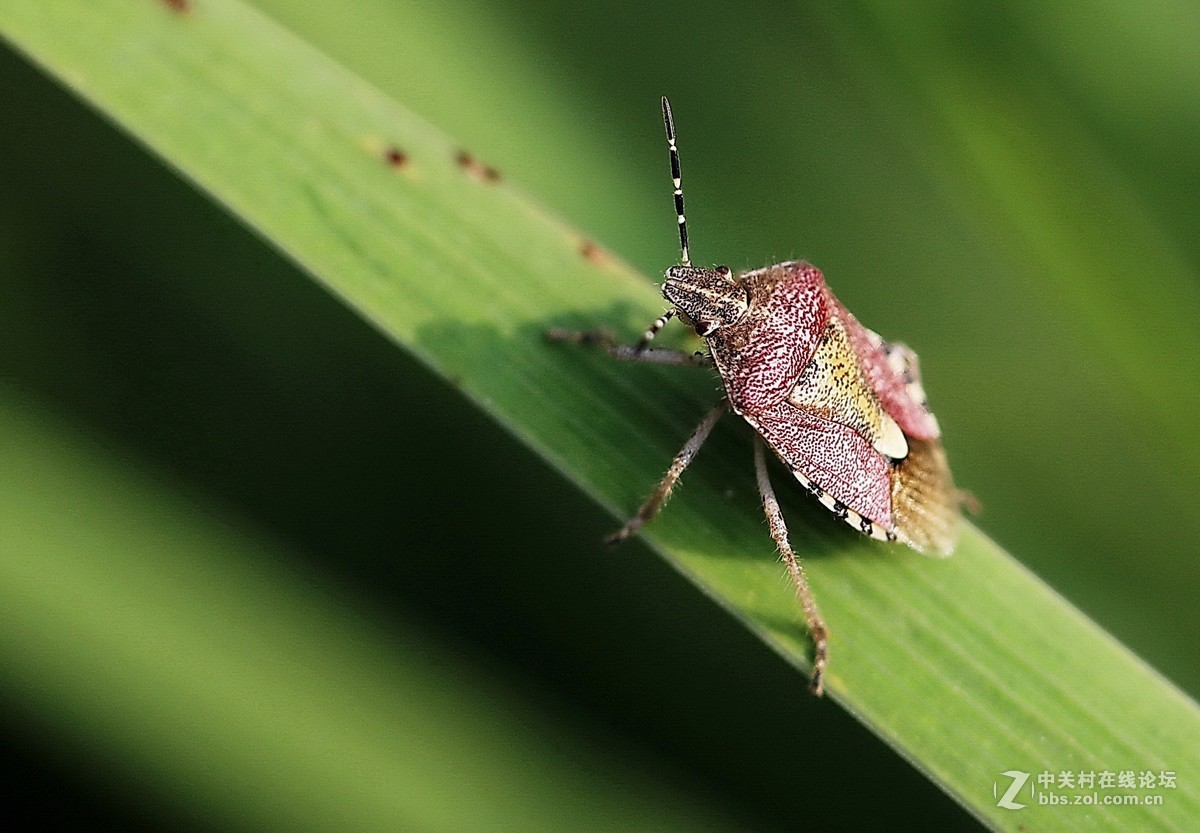chunchong: (608, 209, 980, 627)
